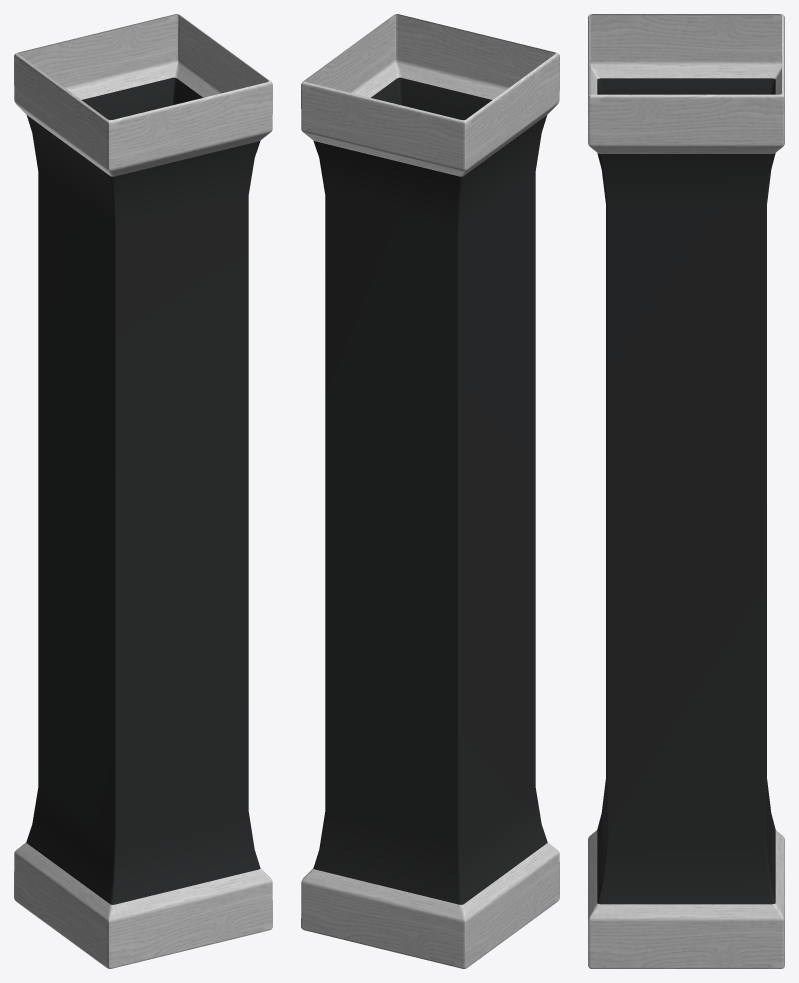
Rendered from Pole.fbx.
3 views of the same model, side by side, from view 1: azimuth 30°, elevation 25°; view 2: azimuth 150°, elevation 25°; view 3: azimuth 270°, elevation 25° (orthographic). The views are drawn at different scales.
Parts seen in each view (by area): view 1: Pillar; view 2: Pillar; view 3: Pillar.
Part boxes in pixels (x1,y1,x2,y2): Pillar: (14,14,272,968); Pillar: (301,14,559,968); Pillar: (588,14,784,968).
Bounding box in the file's own units: 52.99 × 260 × 52.99.
